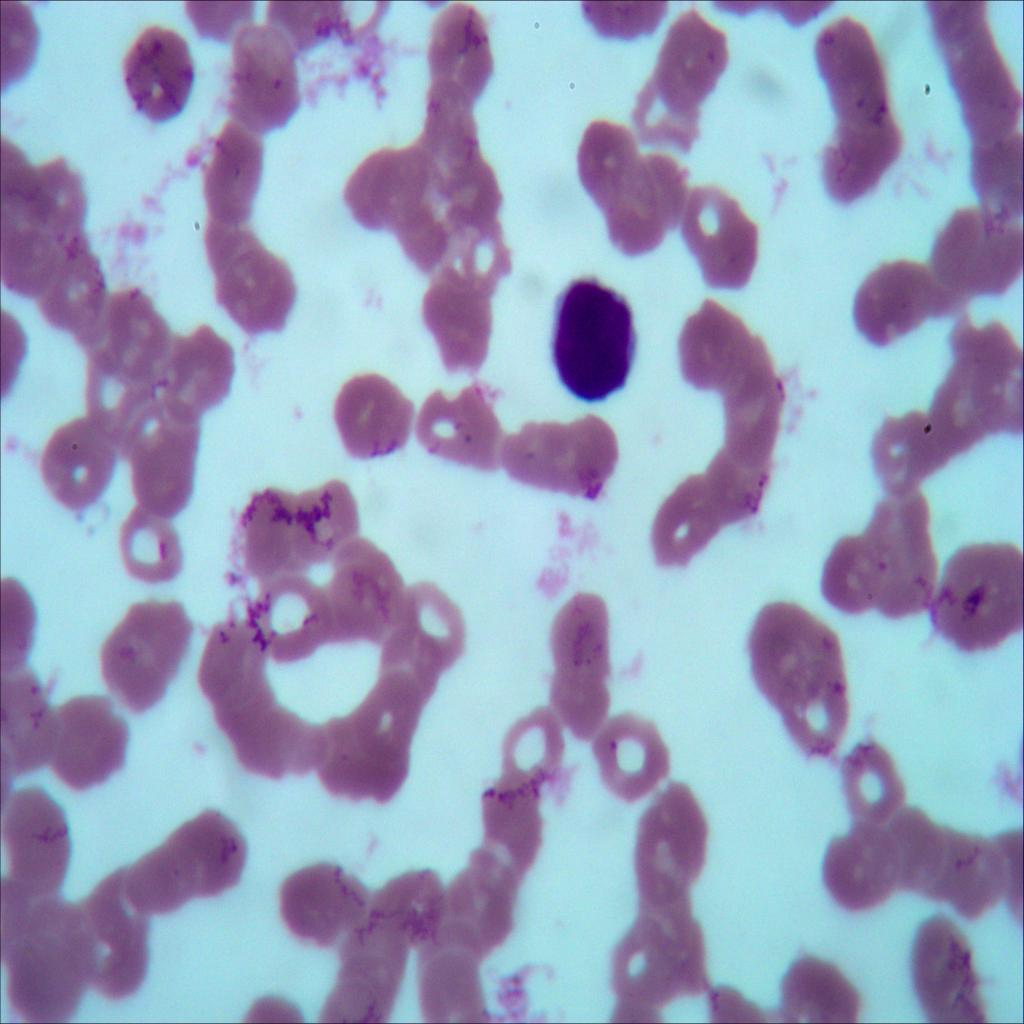Limfoblast: (532, 264, 644, 410)
